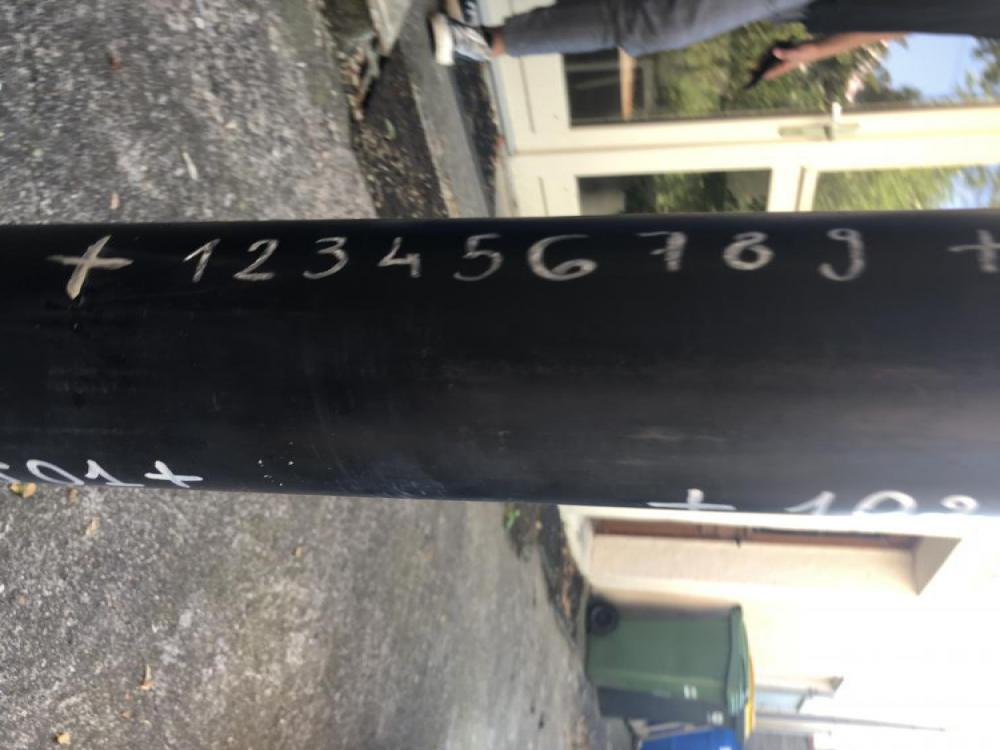+: (44, 237, 136, 296), (949, 229, 1000, 274), (650, 488, 734, 513), (146, 460, 206, 489)
0: (854, 488, 916, 518), (26, 460, 82, 486)
1: (84, 459, 143, 489), (184, 240, 222, 284), (786, 490, 836, 517)
2: (234, 238, 280, 280)
3: (300, 236, 350, 280)
4: (379, 236, 422, 280)
5: (453, 232, 503, 283)
6: (527, 234, 597, 281)
7: (634, 231, 690, 274)
8: (724, 230, 772, 272)
9: (813, 225, 881, 283)
